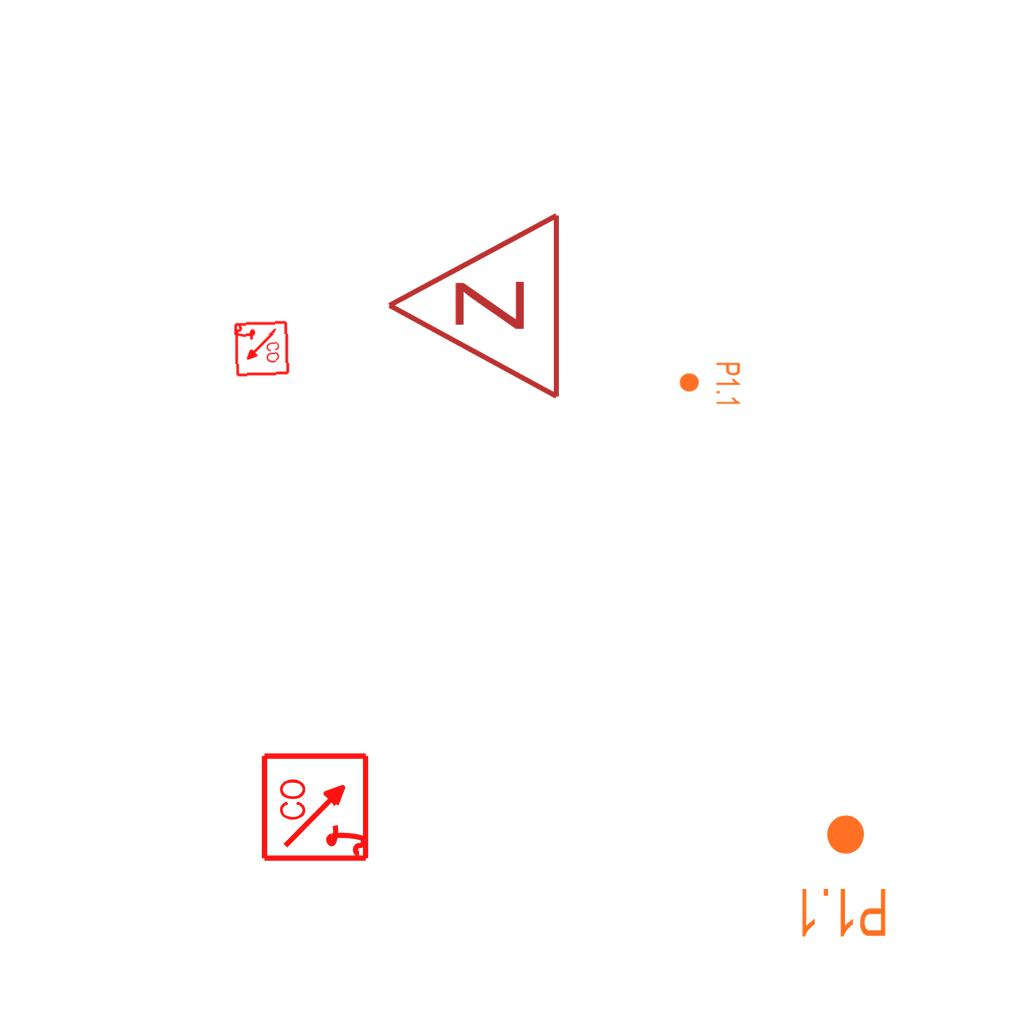Downlight_LED_Einbauleuchten_Flur: (796, 812, 889, 940), (678, 361, 742, 407)
ROA_Rauchmelder_optisch_mit_Signalgeber_(Sockelsirene): (260, 750, 373, 863), (232, 320, 290, 378)
Zimmersignalleuchte: (374, 210, 574, 406)
